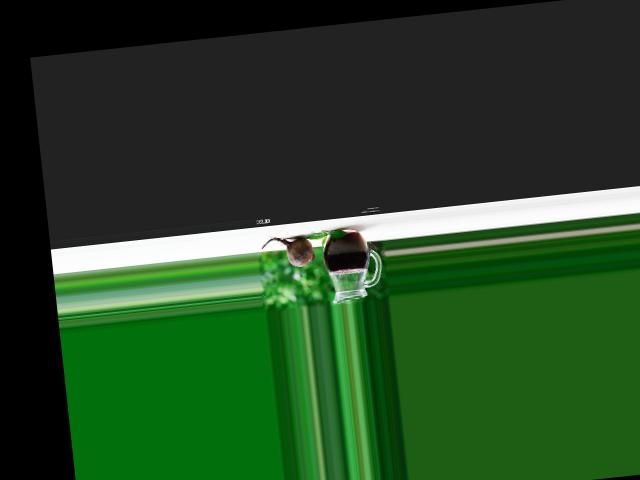beet: (261, 233, 316, 269)
